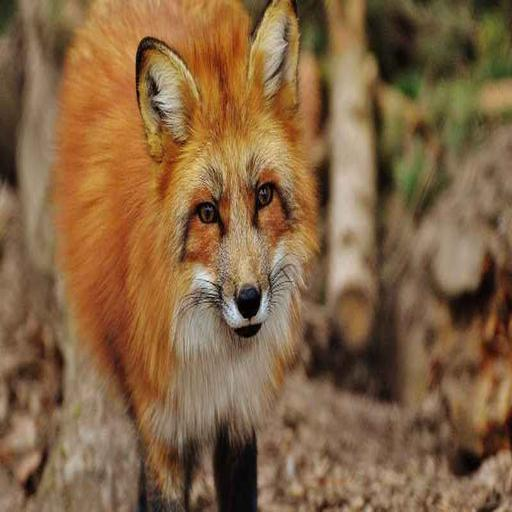Fox: (54, 0, 329, 512)
